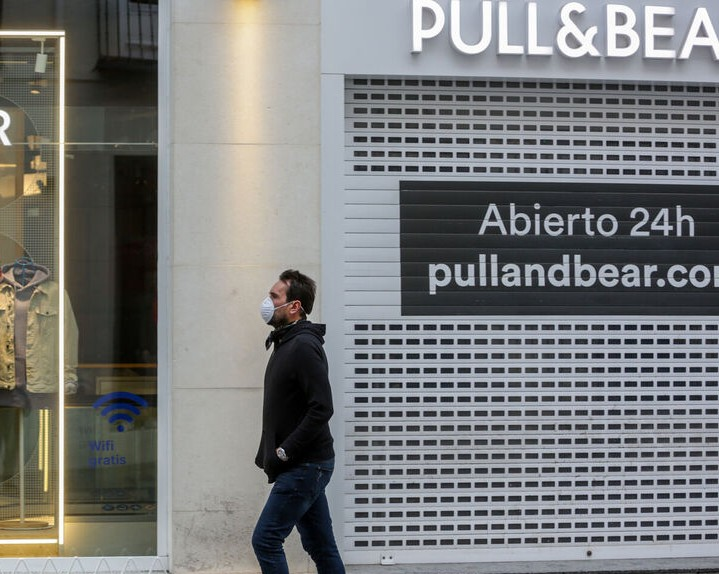with_mask: (259, 275, 317, 335)
